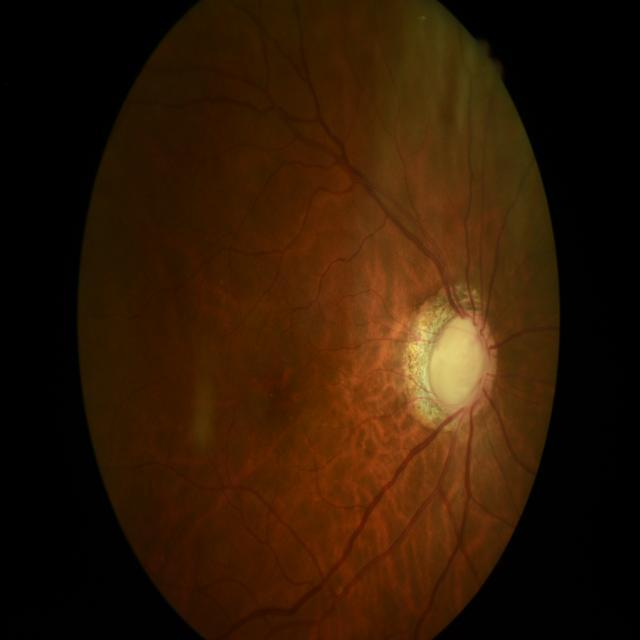cup: (430, 316, 487, 408)
disk: (429, 310, 497, 418)
